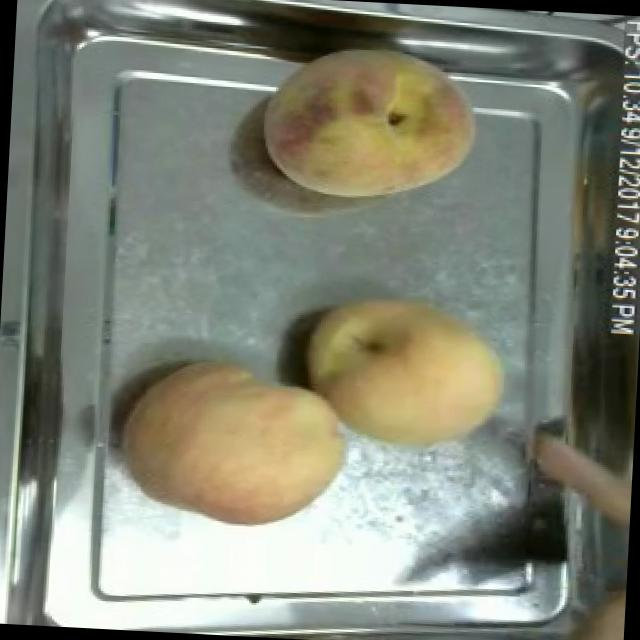Fruit: (110, 346, 358, 540), (250, 31, 488, 212), (291, 281, 524, 464), (548, 564, 627, 640)
